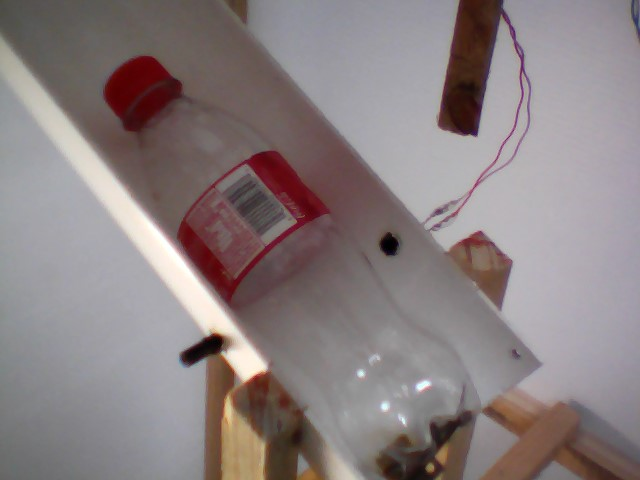plastico: (94, 46, 482, 480)
